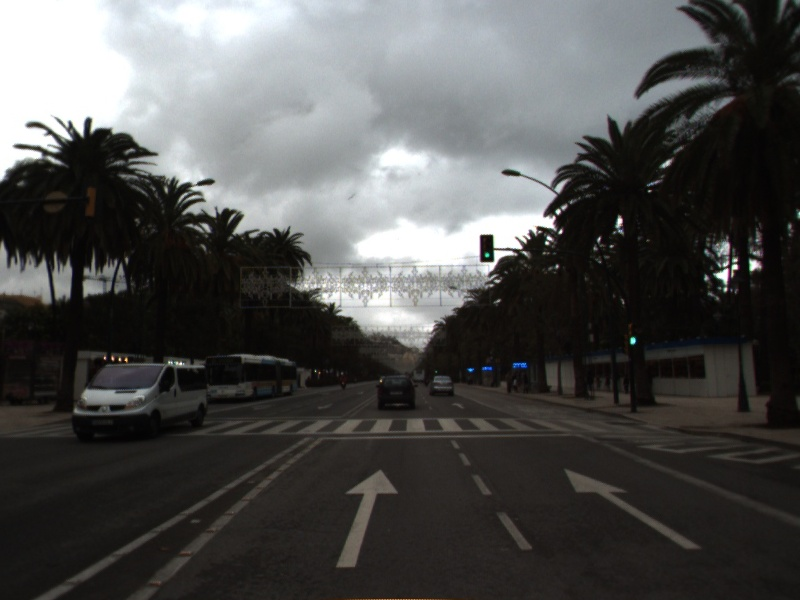STRAIGHT: (562, 466, 706, 552), (334, 467, 401, 570), (450, 400, 466, 410)
